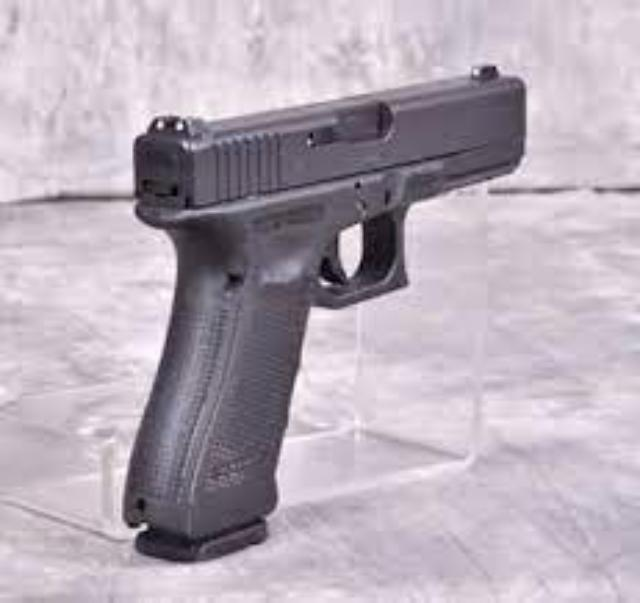handgun: (111, 60, 536, 572)
